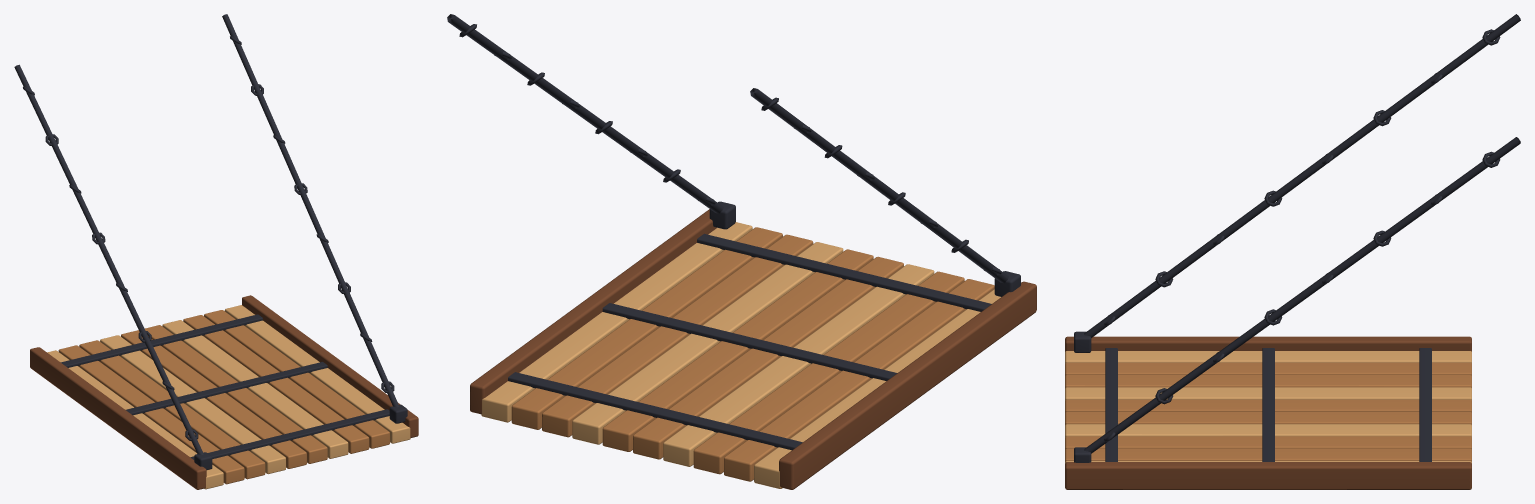
File: faire_drawbridge.glb
3 views of the same model, side by side, from view 1: azimuth 30°, elevation 25°; view 2: azimuth 150°, elevation 25°; view 3: azimuth 270°, elevation 25° (orthographic). The views are drawn at different scales.
Parts seen in each view (by area): view 1: Drawbridge; view 2: Drawbridge; view 3: Drawbridge.
Boxes of the visible parts, x1=… form: Drawbridge: x1=14, y1=14, x2=418, y2=489; Drawbridge: x1=447, y1=14, x2=1036, y2=489; Drawbridge: x1=1065, y1=14, x2=1520, y2=489.
Size of the model in its own units: 5.35 by 6.65 by 7.84.
